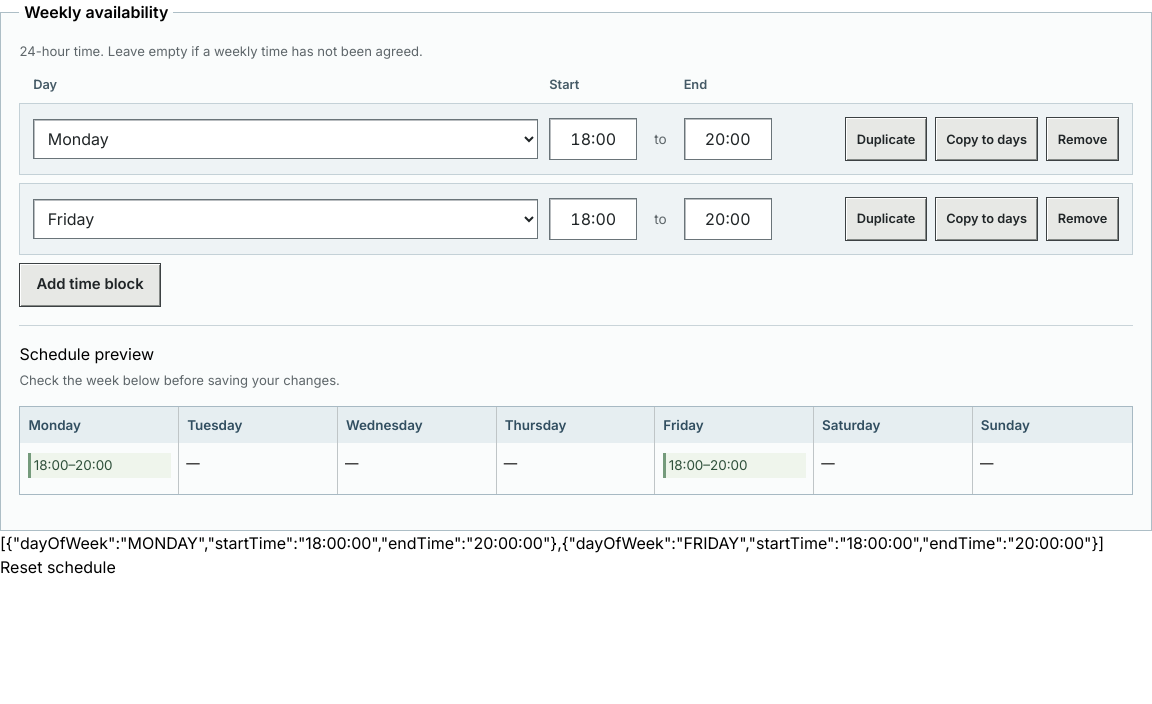
Test case: weekly editor conveniences › keeps a later invalid draft on its own row when an earlier row is duplicated
The width and height of the screenshot is (1152, 704).
Step 1. Replace the text in the 3rd field named "Start 2" with "25:00" → (593, 219), box [549, 198, 637, 240]
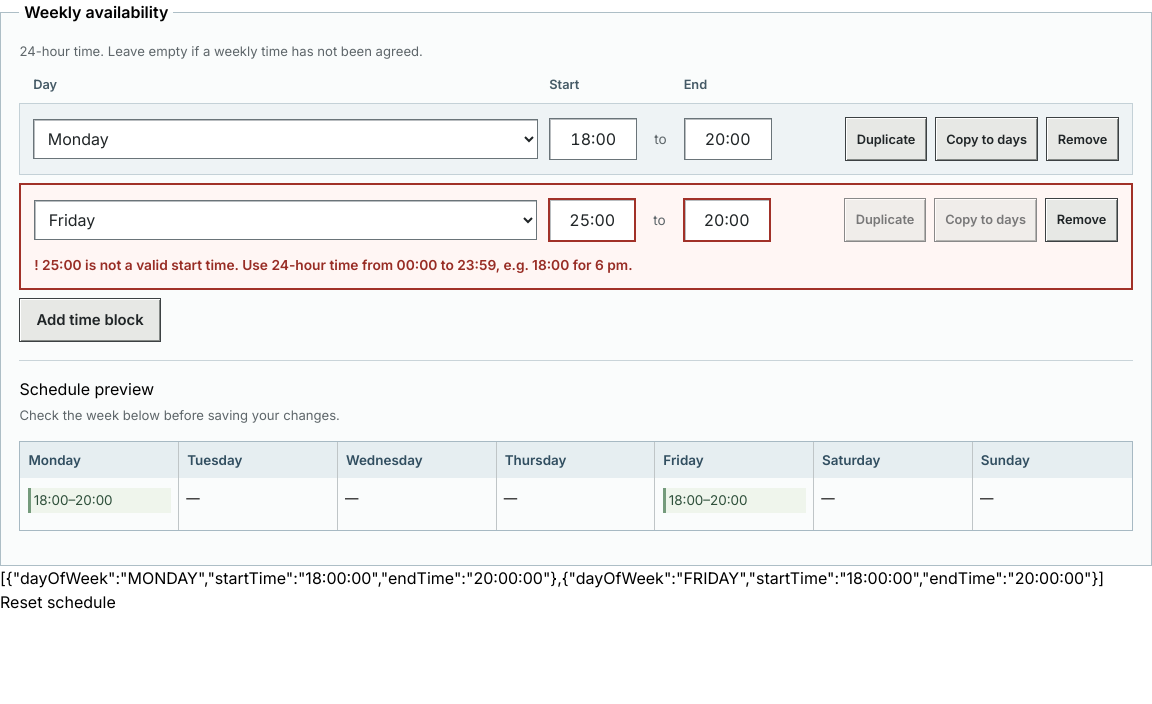
Step 2. Click the button with aria-label "Duplicate time 1" → (886, 139), box [845, 117, 927, 161]
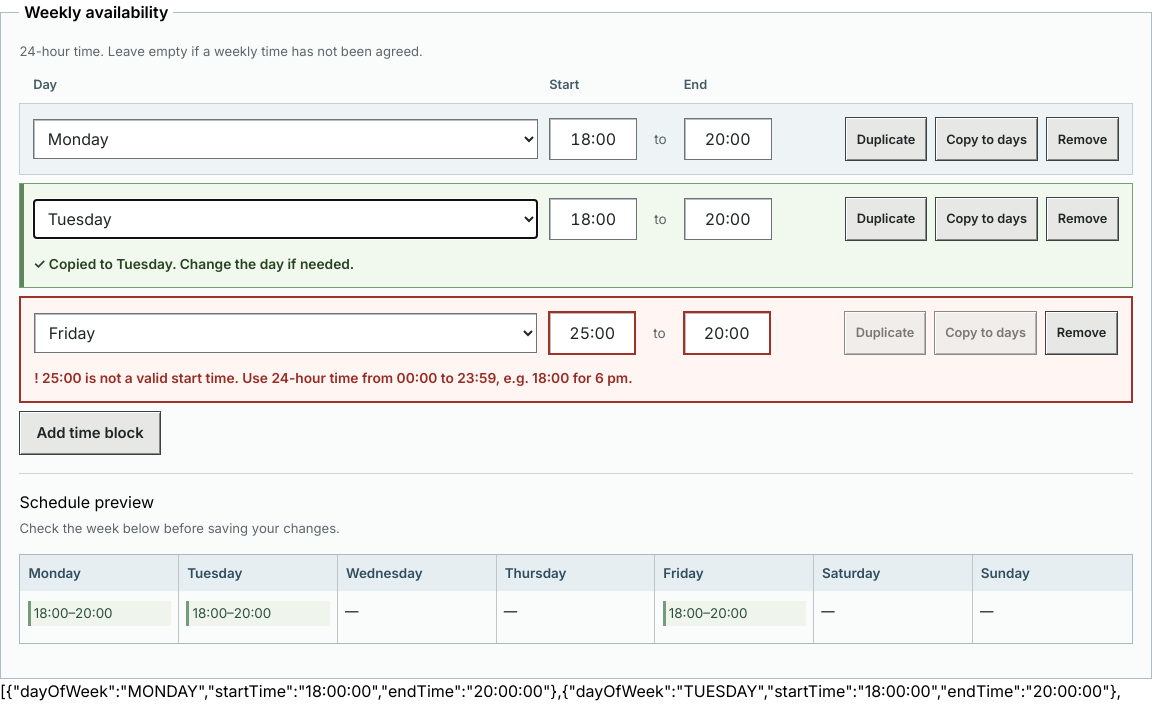
Expected: the 3rd field named "Start 2" holds "18:00", [549, 198, 637, 240]
Expected: the 5th field named "Start 3" holds "25:00", [548, 311, 636, 355]
